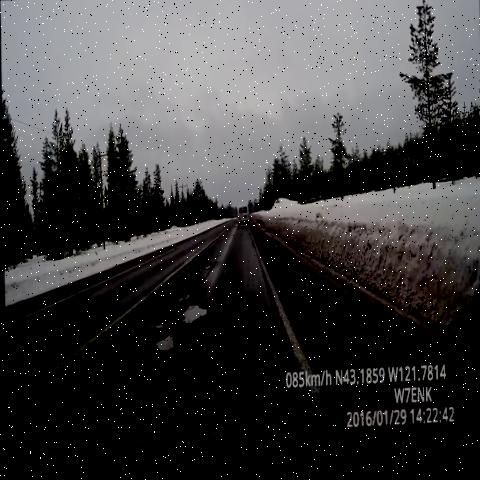pothole: (107, 281, 212, 394), (191, 256, 222, 281)
